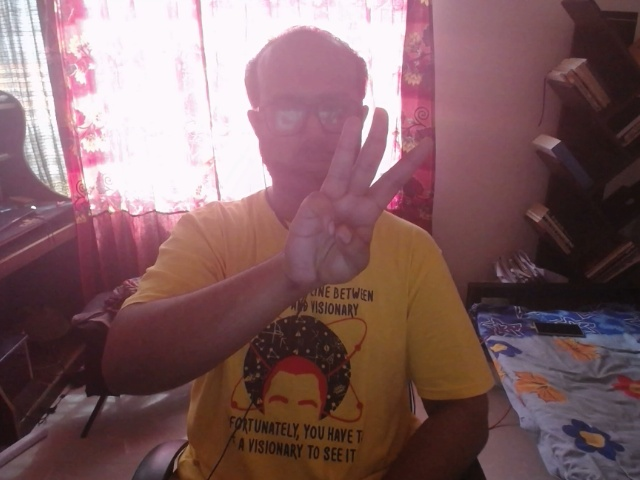three: (319, 94, 444, 237)
